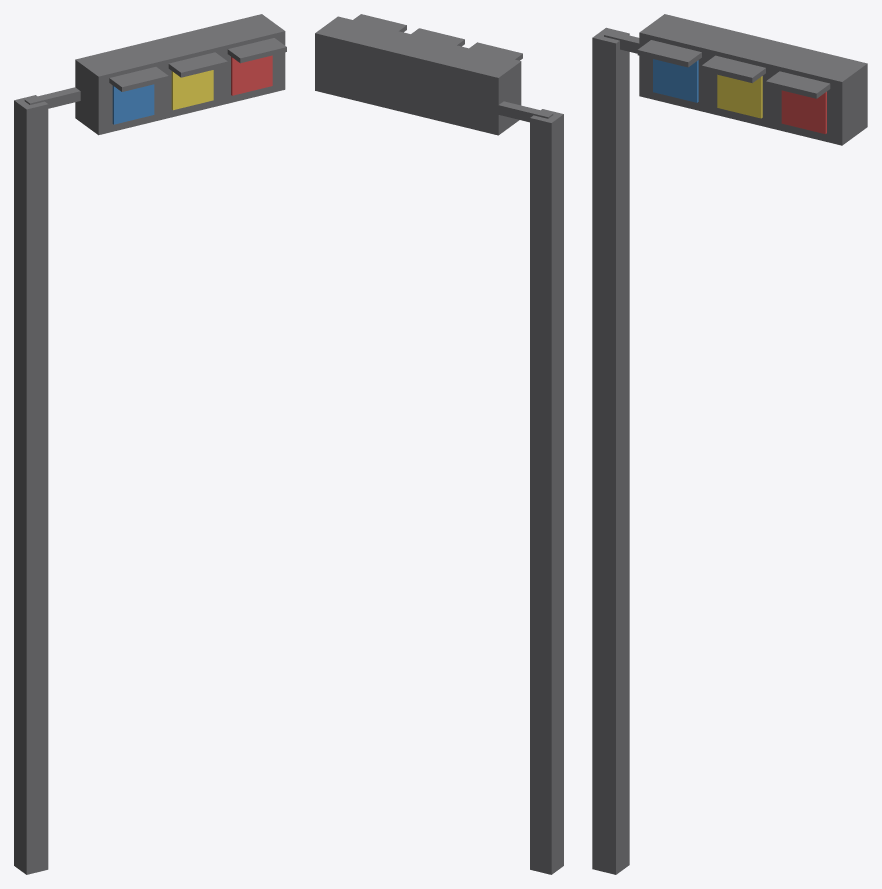
The model's file is WEB_Signal_Car.glb.
The picture shows the model from 3 angles, left to right: view 1: azimuth 30°, elevation 25°; view 2: azimuth 150°, elevation 25°; view 3: azimuth 330°, elevation 25°; orthographic projection. The views are drawn at different scales.
Parts seen in each view (by area): view 1: WEB_Signal_Car; view 2: WEB_Signal_Car; view 3: WEB_Signal_Car.
Part boxes in pixels (<box>): WEB_Signal_Car: <box>14,14,286,874</box>; WEB_Signal_Car: <box>315,14,563,874</box>; WEB_Signal_Car: <box>592,14,867,874</box>.
Bounding box in the file's own units: 1.57 × 4.88 × 0.44.
